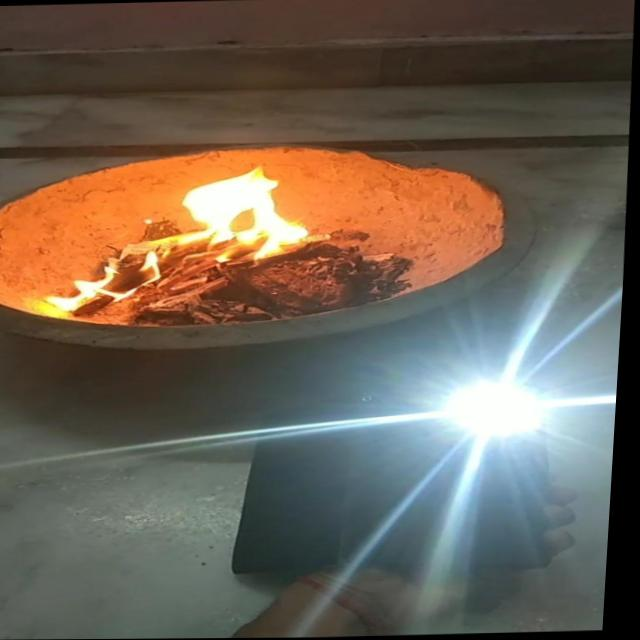fire: (54, 162, 324, 312)
